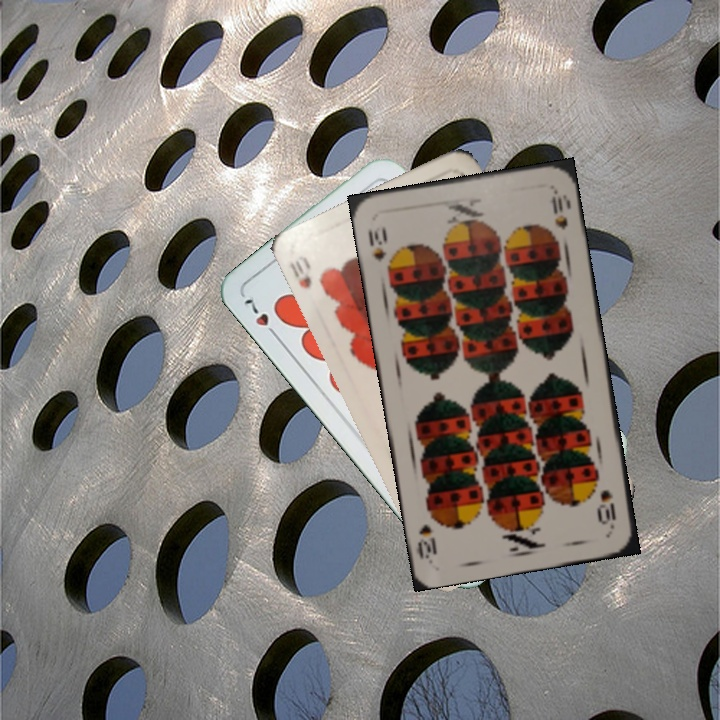H10: (285, 251, 314, 291)
H7: (239, 292, 282, 342)
S10: (364, 222, 390, 265), (596, 486, 619, 531)
